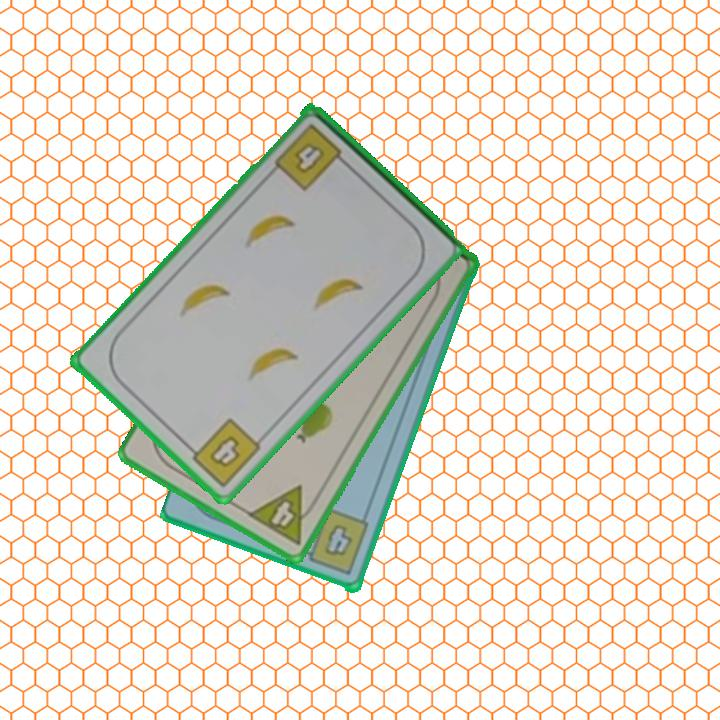4b: (182, 414, 264, 491), (271, 120, 352, 194), (296, 506, 372, 579)
4p: (244, 482, 323, 548)
